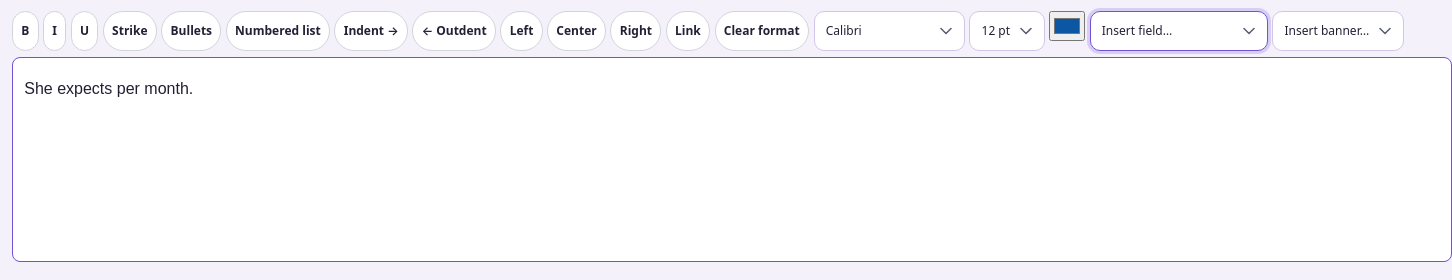
Test: the message box › inserts a field where the cursor was, even after a toolbar dropdown took the focus
The image size is (1452, 280).
Select "Expected salary (salary)" in the dropdown named "Insert field" at (1179, 31), box [1090, 11, 1268, 51]
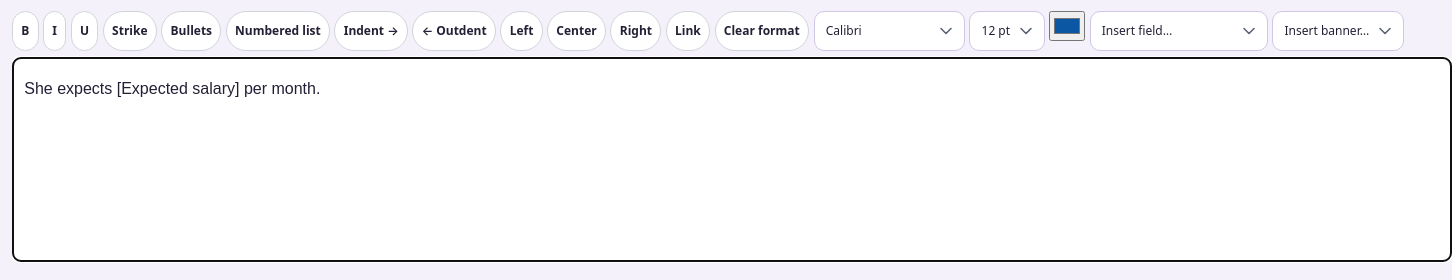
Expected: the field named "Message" reads "She expects [Expected salary] per month."
